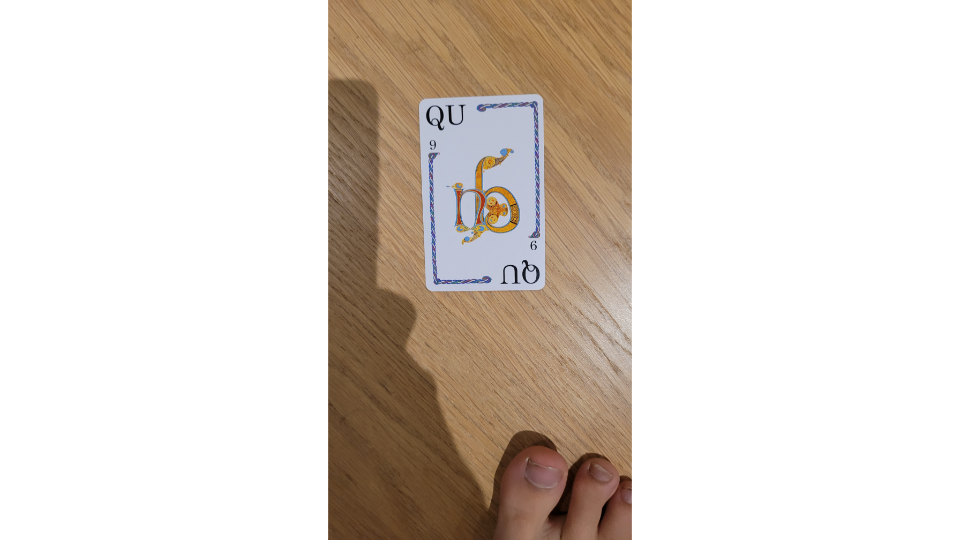QU: (416, 90, 553, 295)
